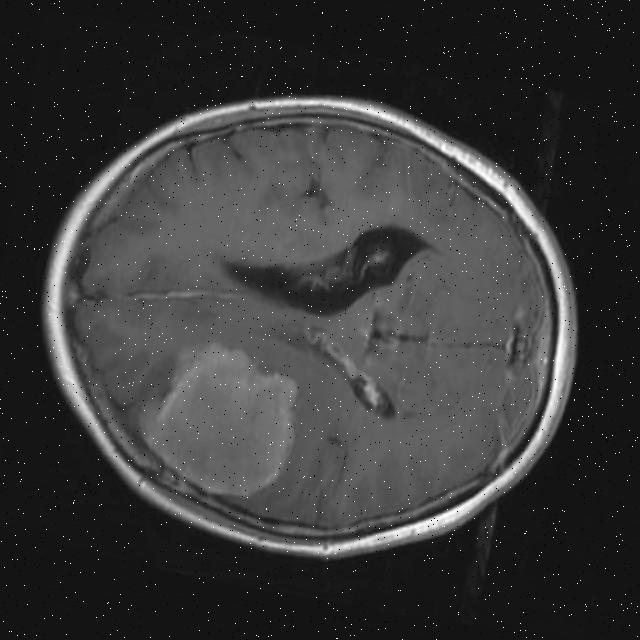Meningioma: (122, 329, 312, 509)
